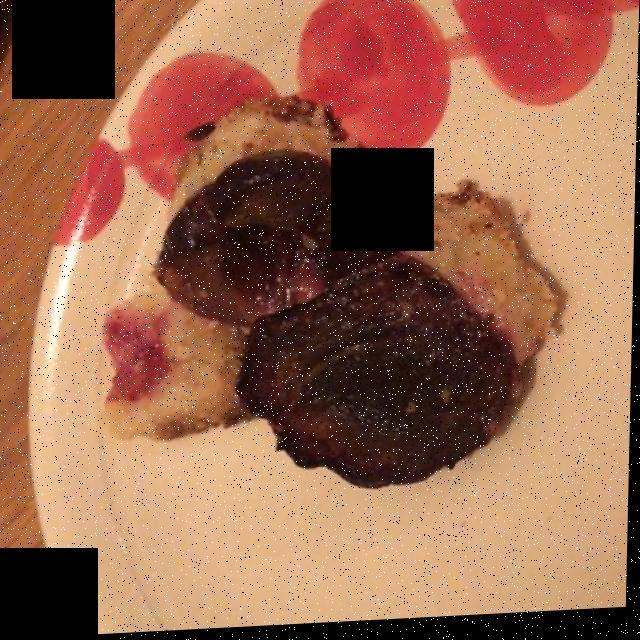plums: (164, 165, 522, 499)
tart: (114, 103, 526, 443)
